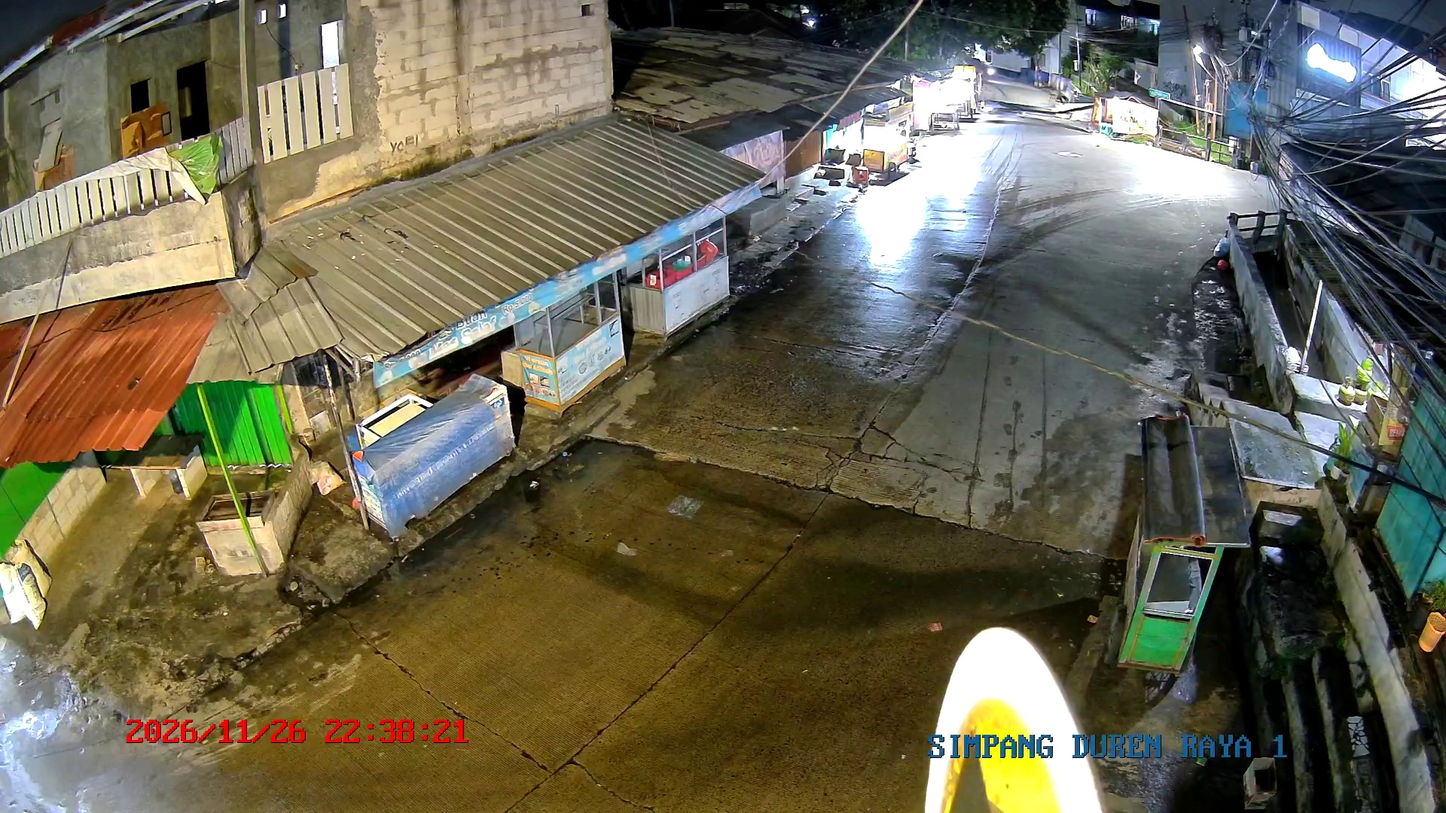Gerobak: (1105, 410, 1254, 682)
